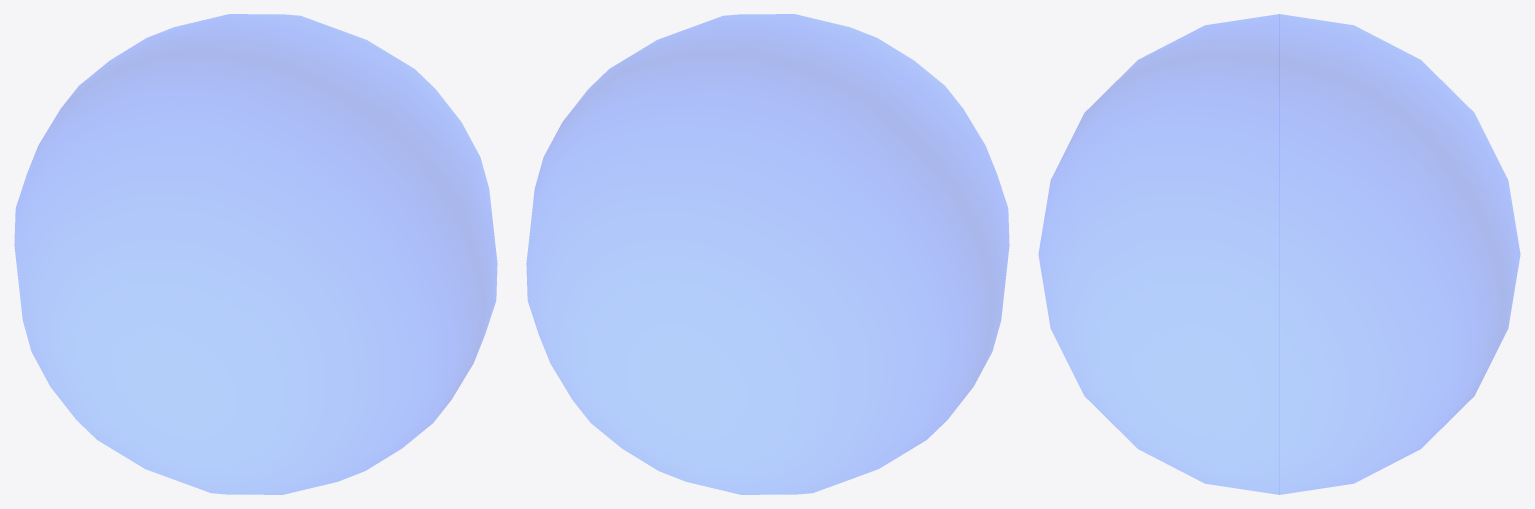
Rendered from MadeByJawns_ItchIO_GameItems_v1_0_1_Orb.glb.
3 views of the same model, side by side, from view 1: azimuth 30°, elevation 25°; view 2: azimuth 150°, elevation 25°; view 3: azimuth 270°, elevation 25° (orthographic).
Visible parts, largest first — view 1: Orb.001; view 2: Orb.001; view 3: Orb.001.
Boxes of the visible parts, x1=… form: Orb.001: x1=14, y1=14, x2=497, y2=494; Orb.001: x1=526, y1=14, x2=1009, y2=494; Orb.001: x1=1038, y1=14, x2=1520, y2=494.
Bounding box in the file's own units: 11.4 × 11.49 × 11.42.
